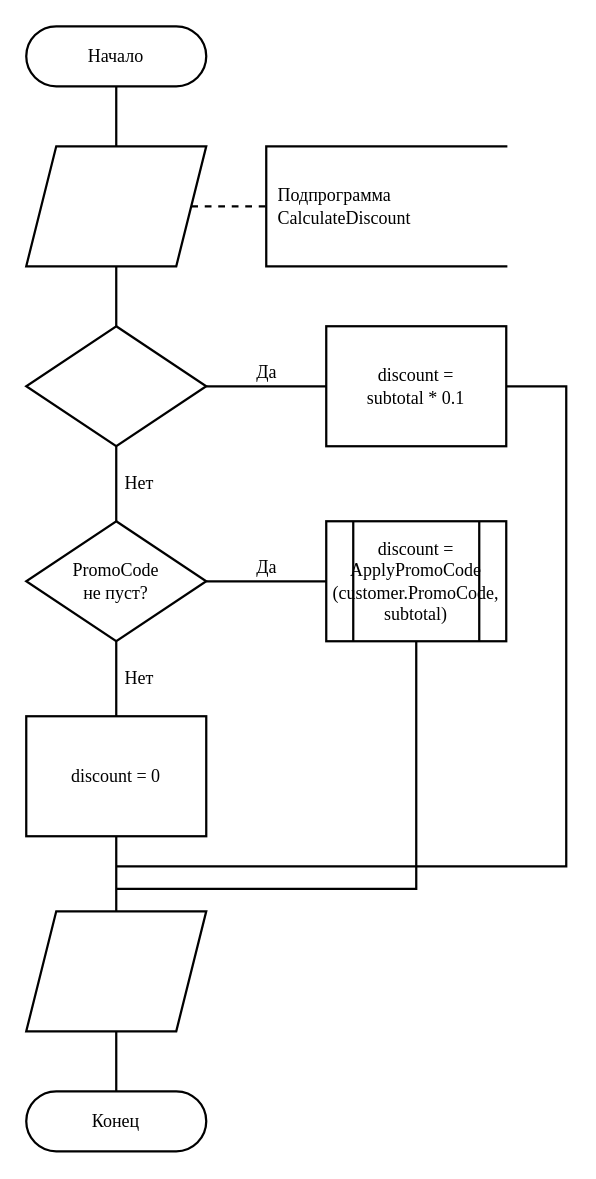
Some shapes in this 596 by 1179 pixel diagram are drawn without their labels. The box of each missing label's shape, as (x1, y1, x2, y2) in pixels:
customer, subtotal: (24, 144, 207, 267)
customer.IsPremium && subtotal > 1000: (24, 324, 207, 447)
discount: (24, 909, 207, 1032)
